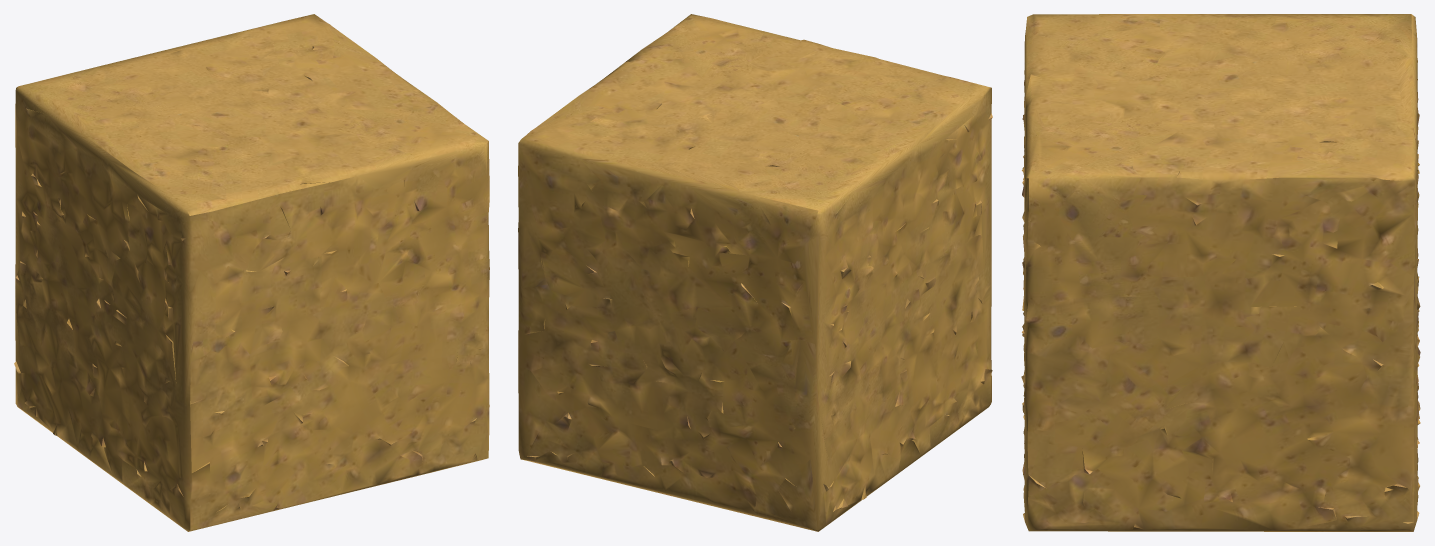
Rendered from block_sand_idle.glb.
The picture shows the model from 3 angles, left to right: view 1: azimuth 30°, elevation 25°; view 2: azimuth 150°, elevation 25°; view 3: azimuth 270°, elevation 25°; orthographic projection. The views are drawn at different scales.
Parts seen in each view (by area): view 1: tripo_node_7f46e854-570d-46ad-aa45-2c3a3b4c9545; view 2: tripo_node_7f46e854-570d-46ad-aa45-2c3a3b4c9545; view 3: tripo_node_7f46e854-570d-46ad-aa45-2c3a3b4c9545.
Boxes of the visible parts, bbox=[...] form: tripo_node_7f46e854-570d-46ad-aa45-2c3a3b4c9545: bbox=[14, 14, 489, 531]; tripo_node_7f46e854-570d-46ad-aa45-2c3a3b4c9545: bbox=[518, 14, 992, 531]; tripo_node_7f46e854-570d-46ad-aa45-2c3a3b4c9545: bbox=[1021, 14, 1420, 531].
Size of the model in its own units: 1 by 1 by 1.
Materials: 1 (1 with a texture image).
